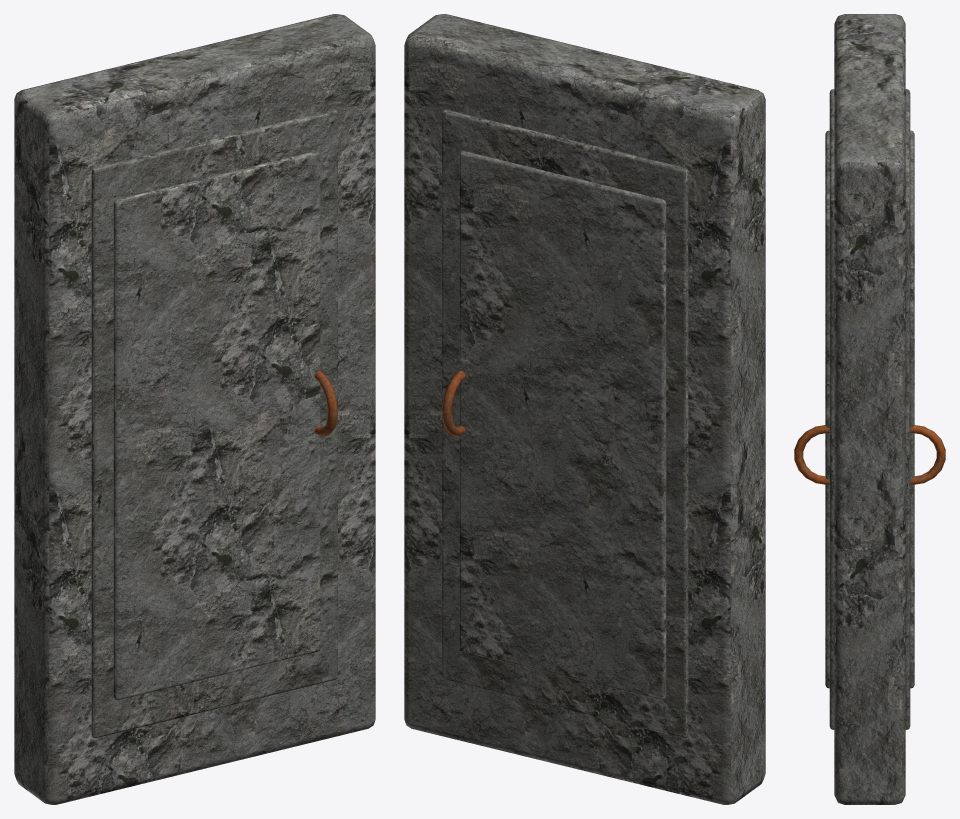
The model's file is door_stone.glb.
The picture shows the model from 3 angles, left to right: view 1: azimuth 30°, elevation 25°; view 2: azimuth 150°, elevation 25°; view 3: azimuth 270°, elevation 25°; orthographic projection. The views are drawn at different scales.
Visible parts, largest first — view 1: prop; view 2: prop; view 3: prop.
Boxes of the visible parts, x1,y1,x2,y2 form: prop: (14, 14, 375, 804); prop: (404, 14, 765, 804); prop: (794, 14, 945, 804).
Size of the model in its own units: 1 by 2 by 0.4232.
Materials: 2 (2 with a texture image).
